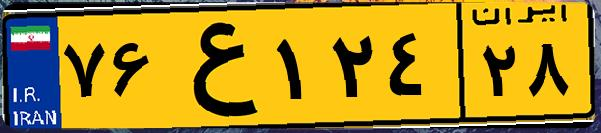1: (270, 28, 330, 110)
2: (330, 28, 385, 110), (475, 38, 525, 113)
4: (385, 28, 445, 110)
6: (110, 28, 158, 98)
7: (57, 26, 110, 100)
8: (525, 38, 570, 115)
ع: (158, 12, 270, 120)
